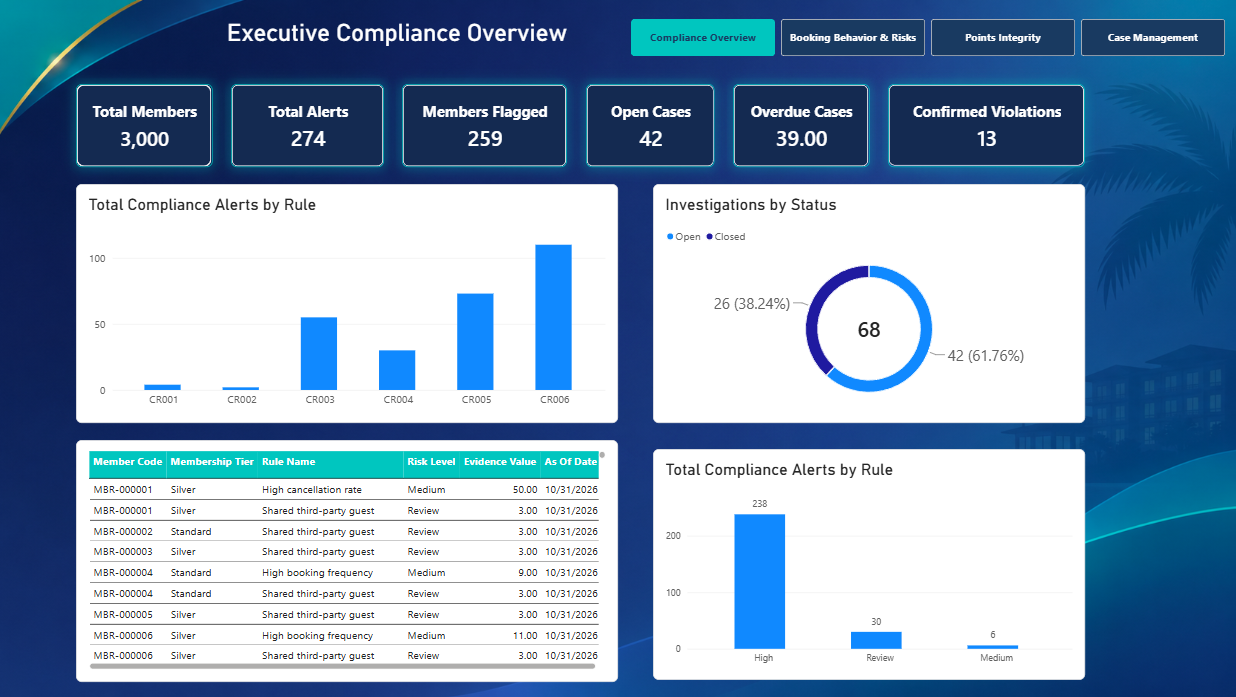

The page's visual inventory and layout, read from the dashboard file:
{"tool":"powerbi","page":{"name":"Compliance Overview","canvas":[1920,1080],"ordinal":0},"visuals":[{"type":"cardVisual","fields":{"Data":["_Measures.Total Members"]},"box":[230.6,181.6,183.6,112.2],"z":0},{"type":"cardVisual","fields":{"Data":["_Measures.Total Compliance Alerts"]},"box":[439,181.6,206.1,112.2],"z":1},{"type":"cardVisual","fields":{"Data":["_Measures.Members Flagged"]},"box":[669.9,181.6,222.4,112.2],"z":2},{"type":"cardVisual","fields":{"Data":["_Measures.Open Investigations"]},"box":[917.1,181.6,173.4,112.2],"z":3},{"type":"cardVisual","fields":{"Data":["_Measures.Overdue Open Investigations"]},"box":[1115.3,181.6,183.6,112.2],"z":4},{"type":"cardVisual","fields":{"Data":["_Measures.Confirmed Violations"]},"box":[1323.7,181.8,265.3,111.8],"z":5},{"type":"textbox","title":"Executive Compliance Overview","box":[434,94.6,483,38.8],"z":6},{"type":"clusteredColumnChart","title":"Total Compliance Alerts by Rule","fields":{"Category":["DimComplianceRule.RuleID"],"Y":["_Measures.Total Compliance Alerts"]},"box":[230.6,316.3,730.5,322.4],"z":7},{"type":"donutChart","title":"Investigations by Status","fields":{"Category":["FactInvestigation.CaseStatus"],"Y":["_Measures.Total Investigations"]},"box":[1007.3,316.5,581.7,321.8],"z":8},{"type":"tableEx","fields":{"Values":["DimMember.MemberCode","DimMember.MembershipTier","DimComplianceRule.RuleName","FactComplianceAlert.RiskLevel","FactComplianceAlert.EvidenceValue","FactComplianceAlert.AsOfDate"]},"box":[230.6,661.1,730.5,326.5],"z":9},{"type":"clusteredColumnChart","title":"Total Compliance Alerts by Rule","fields":{"Category":["FactComplianceAlert.RiskLevel"],"Y":["_Measures.Total Compliance Alerts"]},"box":[1007.3,673.3,581.7,311.1],"z":10},{"type":"pageNavigator","box":[977.7,94.6,800,50],"z":11}]}

Visuals, with their boxes in screenshot pixels (x1, y1, x2, y2), scaled from the page's 1920x1080 canvas onto the 1236x697 screenshot:
cardVisual - _Measures.Total Members: region(148, 117, 267, 190)
cardVisual - _Measures.Total Compliance Alerts: region(283, 117, 415, 190)
cardVisual - _Measures.Members Flagged: region(431, 117, 574, 190)
cardVisual - _Measures.Open Investigations: region(590, 117, 702, 190)
cardVisual - _Measures.Overdue Open Investigations: region(718, 117, 836, 190)
cardVisual - _Measures.Confirmed Violations: region(852, 117, 1023, 189)
"Executive Compliance Overview" textbox: region(279, 61, 590, 86)
"Total Compliance Alerts by Rule" clusteredColumnChart: region(148, 204, 619, 412)
"Investigations by Status" donutChart: region(648, 204, 1023, 412)
tableEx - DimMember.MemberCode x DimMember.MembershipTier: region(148, 427, 619, 637)
"Total Compliance Alerts by Rule" clusteredColumnChart: region(648, 435, 1023, 635)
pageNavigator: region(629, 61, 1144, 93)
